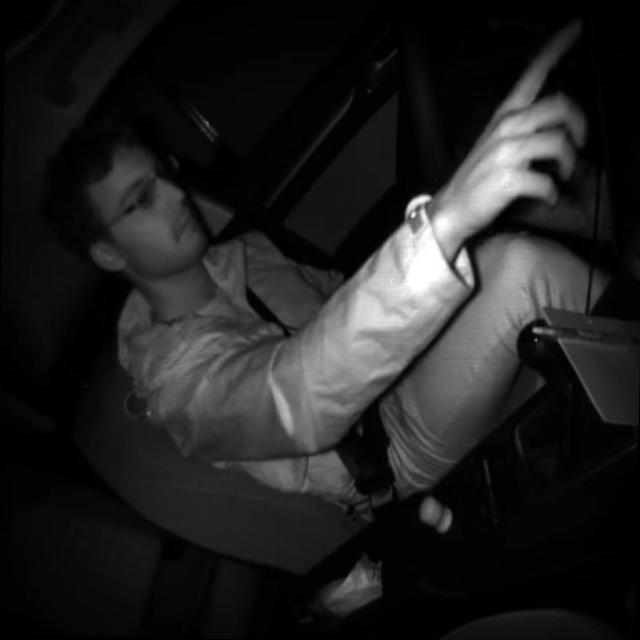pen: (531, 323, 640, 342)
